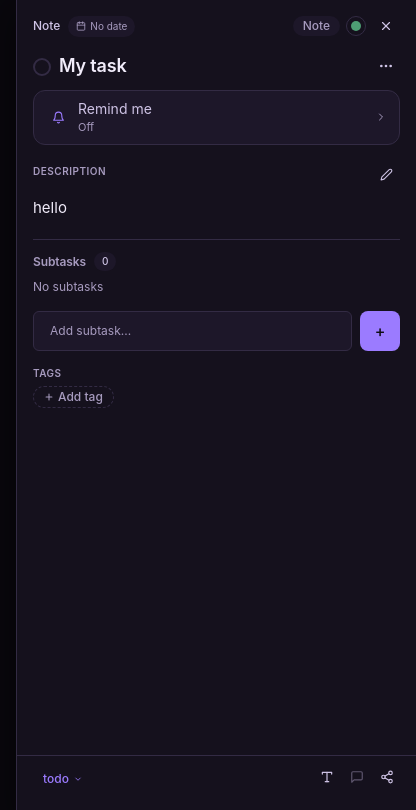
it: TaskDetailDrawer description editing › inserts markdown into the description draft
Click the button named "Edit description formatting" at {"x": 327, "y": 777}, box 314,764 -> 340,790
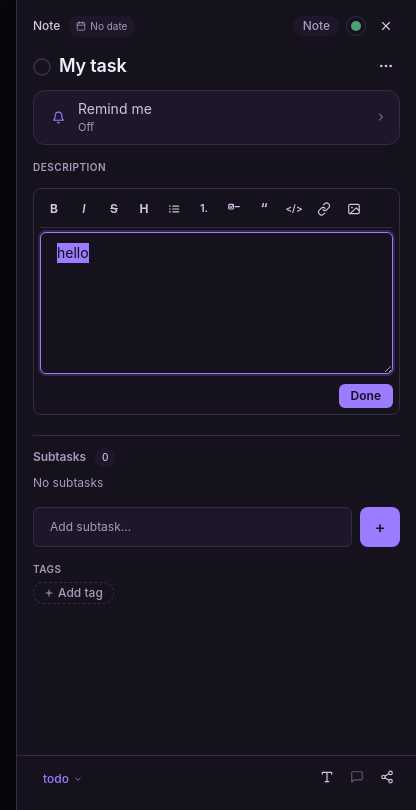
Click the button named "Bold" at {"x": 54, "y": 208}, box 40,194 -> 68,222
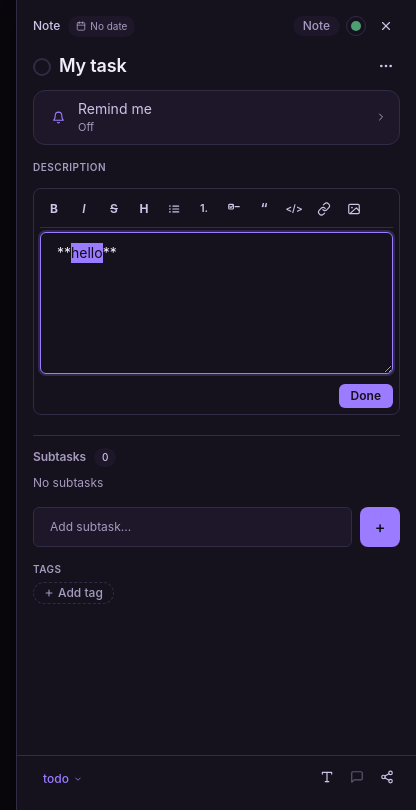
expect the text box with placeholder "Write a description (markdown supported)…" holds "**hello**": met, box 40,232 -> 393,374
